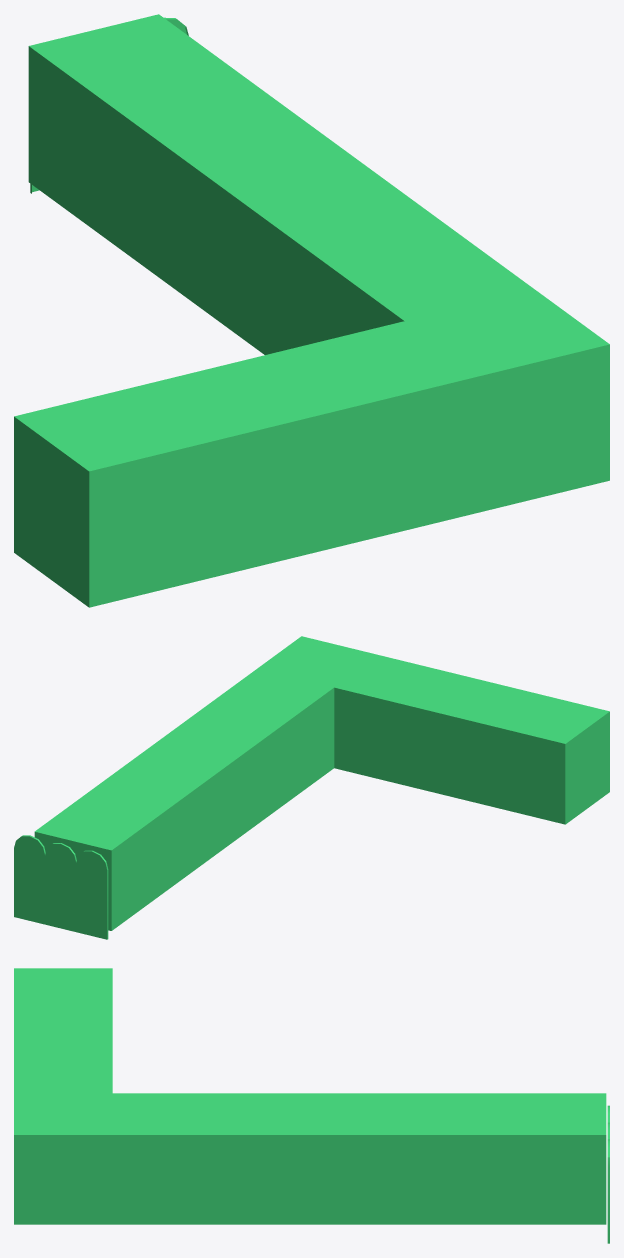
Rendered from WABD_backgrounds_2ndfloor_l_lo.fbx.
3 views of the same model, one above another, from view 1: azimuth 30°, elevation 25°; view 2: azimuth 150°, elevation 25°; view 3: azimuth 270°, elevation 25° (orthographic). The views are drawn at different scales.
Visible parts, largest first — view 1: 2ndfloor_l_lo; view 2: 2ndfloor_l_lo; view 3: 2ndfloor_l_lo.
Boxes of the visible parts, x1,y1,x2,y2 form: 2ndfloor_l_lo: (14,14,609,607); 2ndfloor_l_lo: (14,636,609,939); 2ndfloor_l_lo: (14,968,609,1243).
Bounding box in the file's own units: 849 × 220 × 1208.
